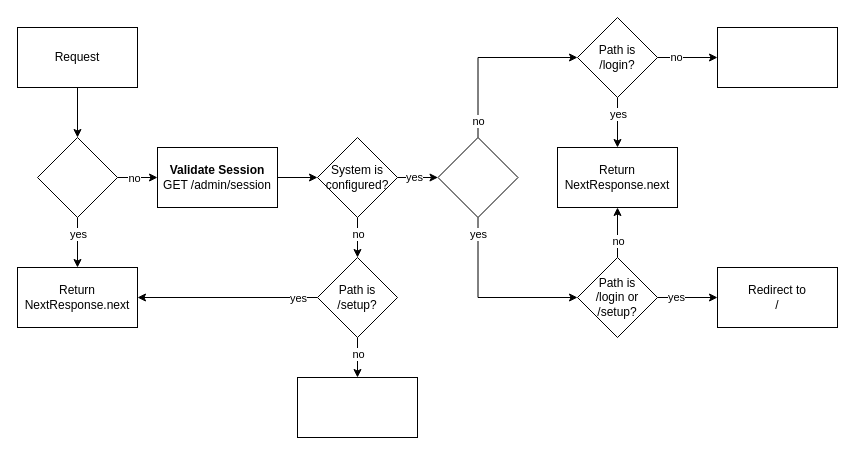
The diagram is 855 pixels wide and 455 high, and some of its shapes have lost their labels. The centre of each missing label's shape, as x and y in pixels:
"Auth is valid?" belongs at [477,177].
"Path is internal?" belongs at [77,177].
"Redirect /setup" belongs at [357,407].
"Redirect to /login" belongs at [777,57].
